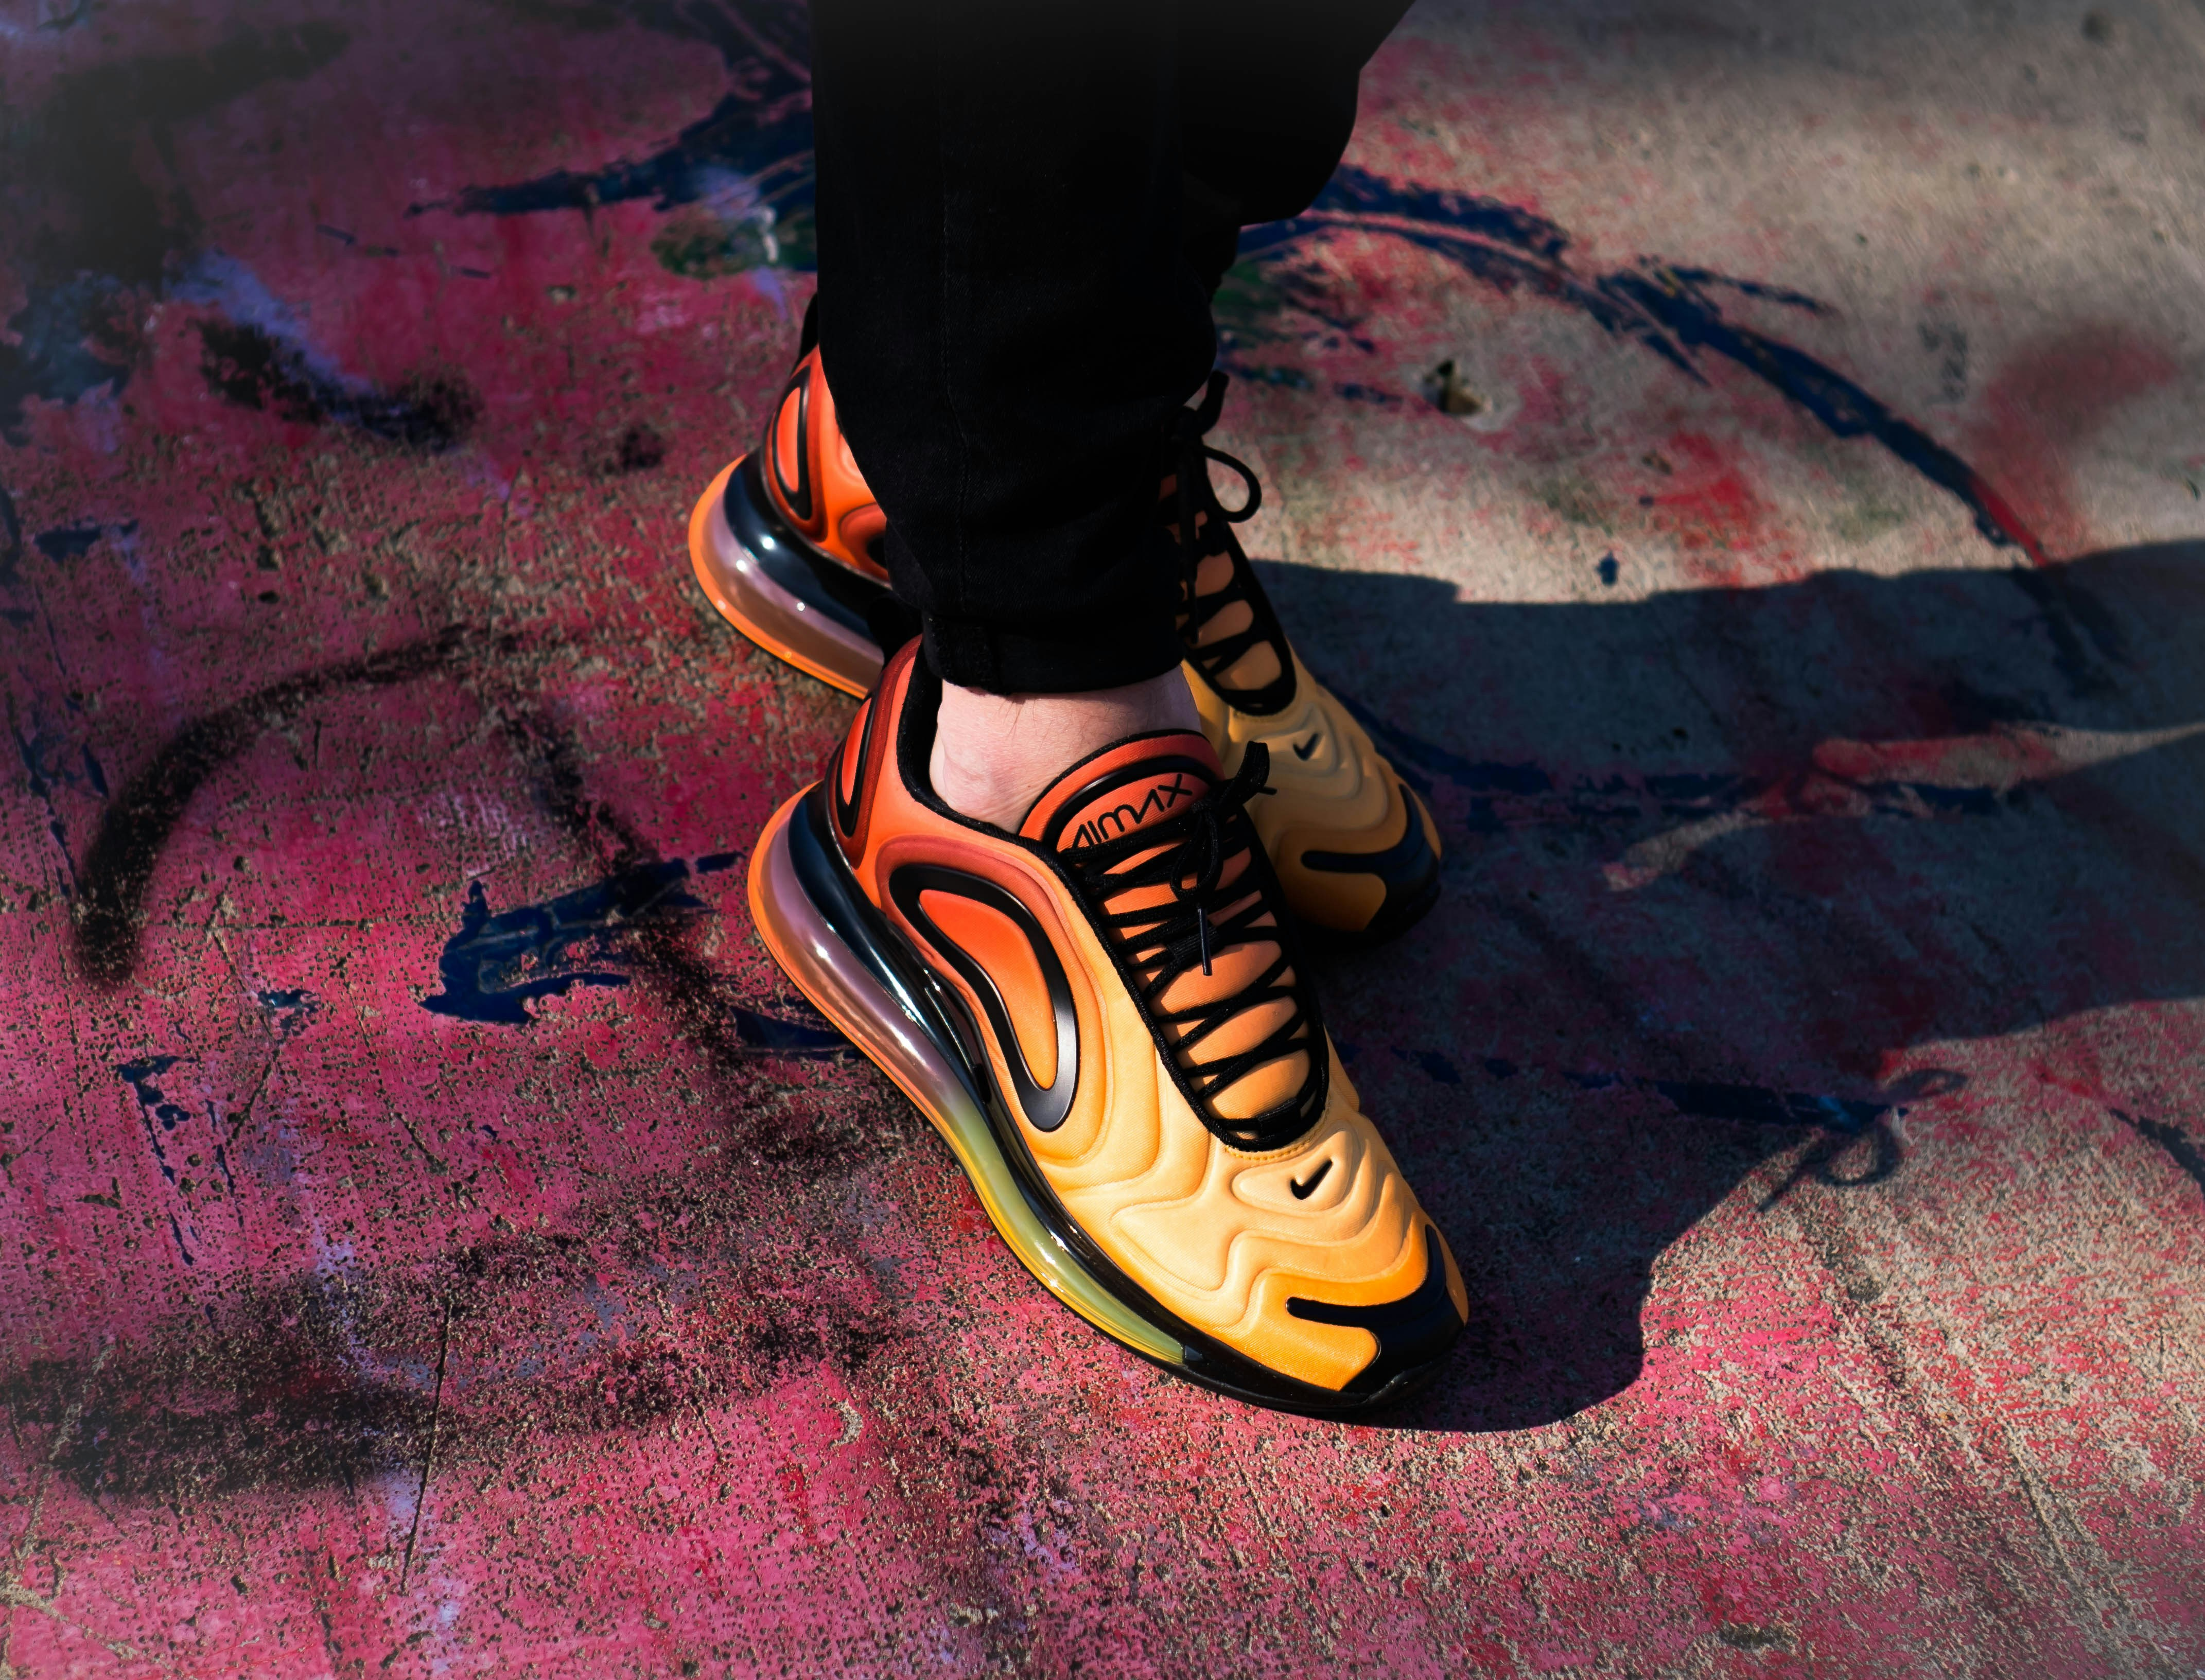Footwear: (732, 655, 1514, 1440)
